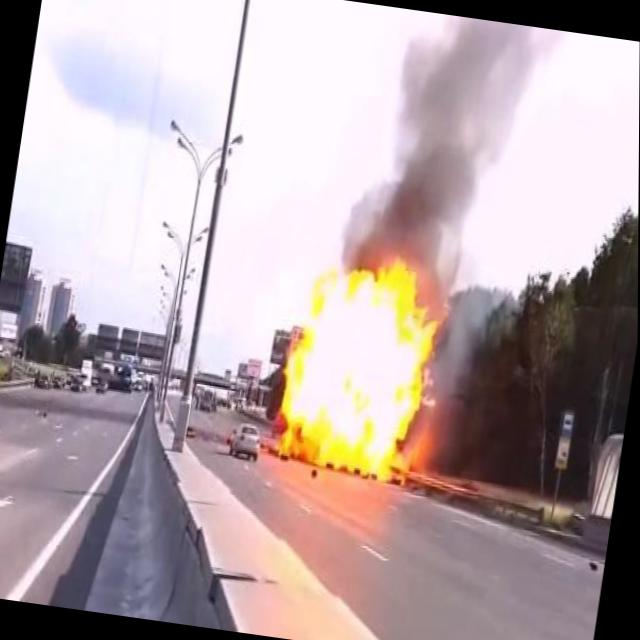fire: (264, 240, 456, 487)
